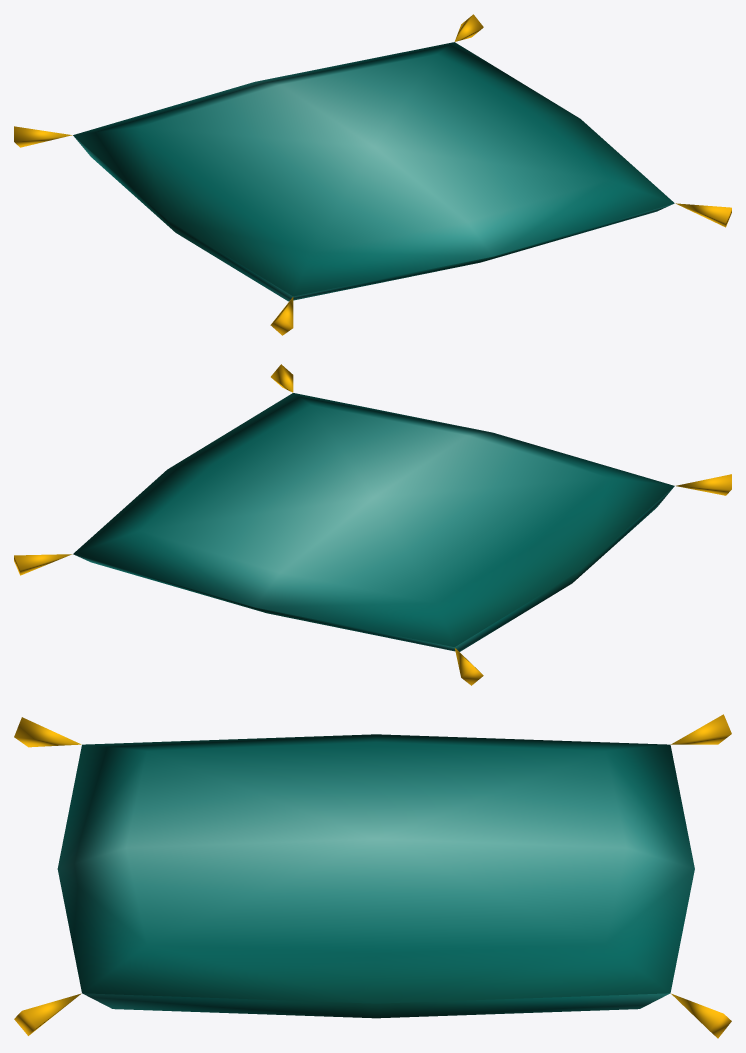
The model's file is SK_Cushion_002.FBX.
3 renders of one model, top to bottom at view 1: azimuth 30°, elevation 25°; view 2: azimuth 150°, elevation 25°; view 3: azimuth 270°, elevation 25°, orthographic. The views are drawn at different scales.
Visible parts, largest first — view 1: SK_Cushion_002; view 2: SK_Cushion_002; view 3: SK_Cushion_002.
Boxes of the visible parts, x1=… form: SK_Cushion_002: x1=14, y1=14, x2=731, y2=335; SK_Cushion_002: x1=14, y1=364, x2=731, y2=685; SK_Cushion_002: x1=14, y1=714, x2=731, y2=1038.
Bounding box in the file's own units: 82.7 × 6.65 × 81.95.
1 material, 1 textured.
